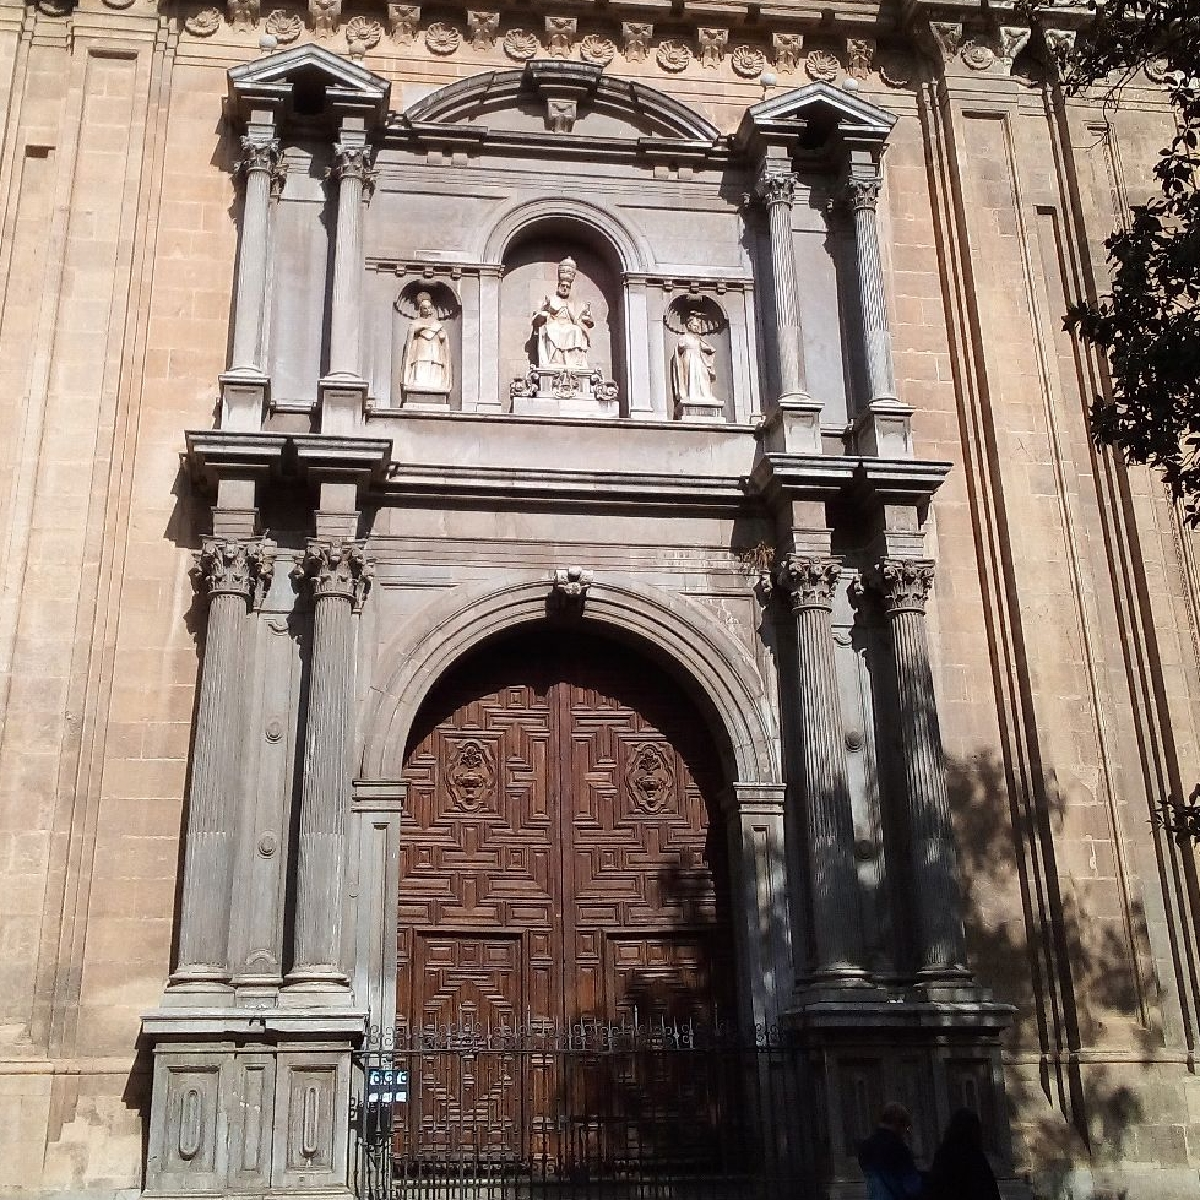arco-medio-punto: (382, 603, 764, 840), (495, 202, 642, 305)
fronton-curvo: (413, 63, 734, 165)
fronton-partido: (220, 42, 391, 107), (738, 79, 899, 144)
serliana: (380, 193, 786, 425)
